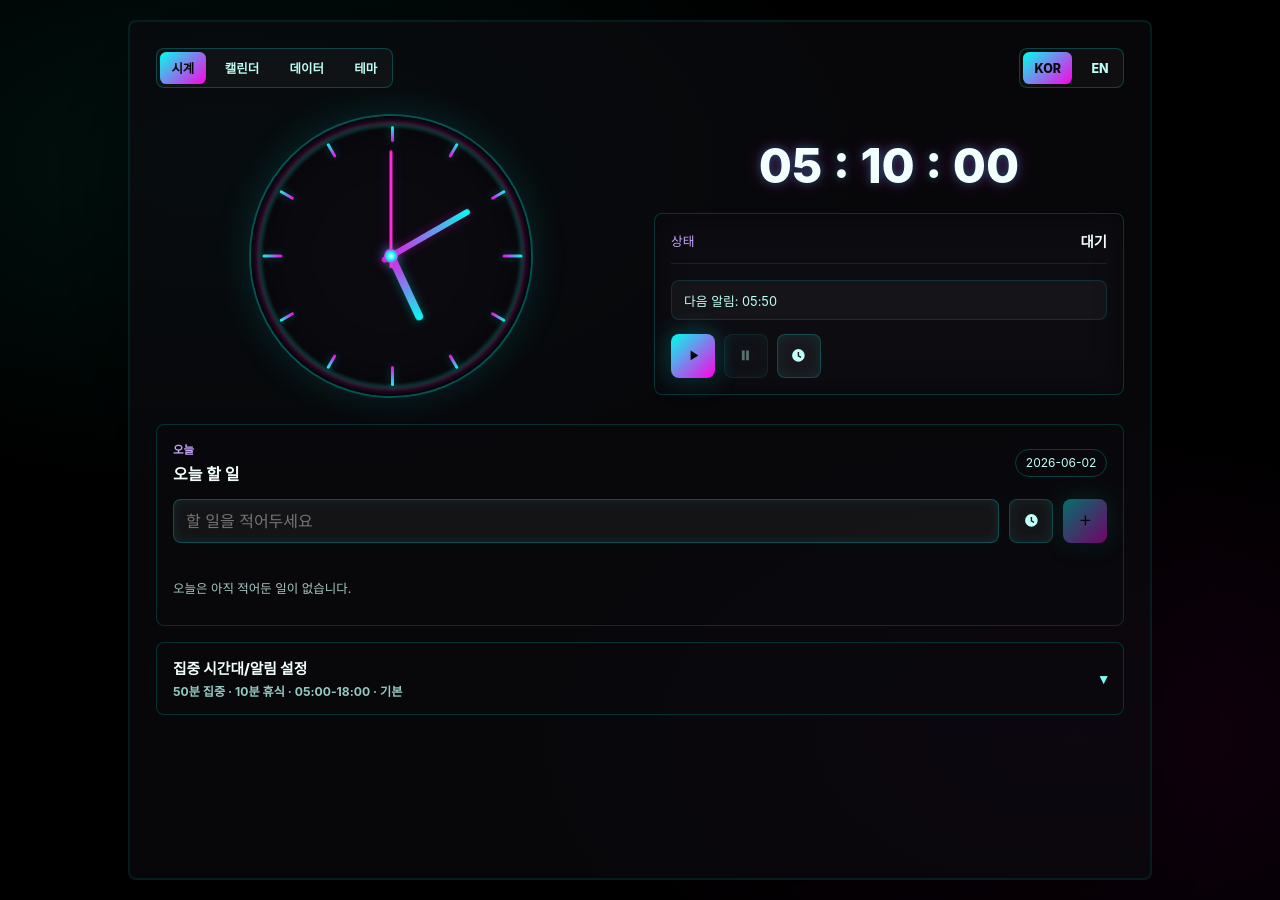
RhythmApp › shows localized success messages for every rhythm command
Click the button named "시작": [693, 356] box [671, 334, 715, 378]
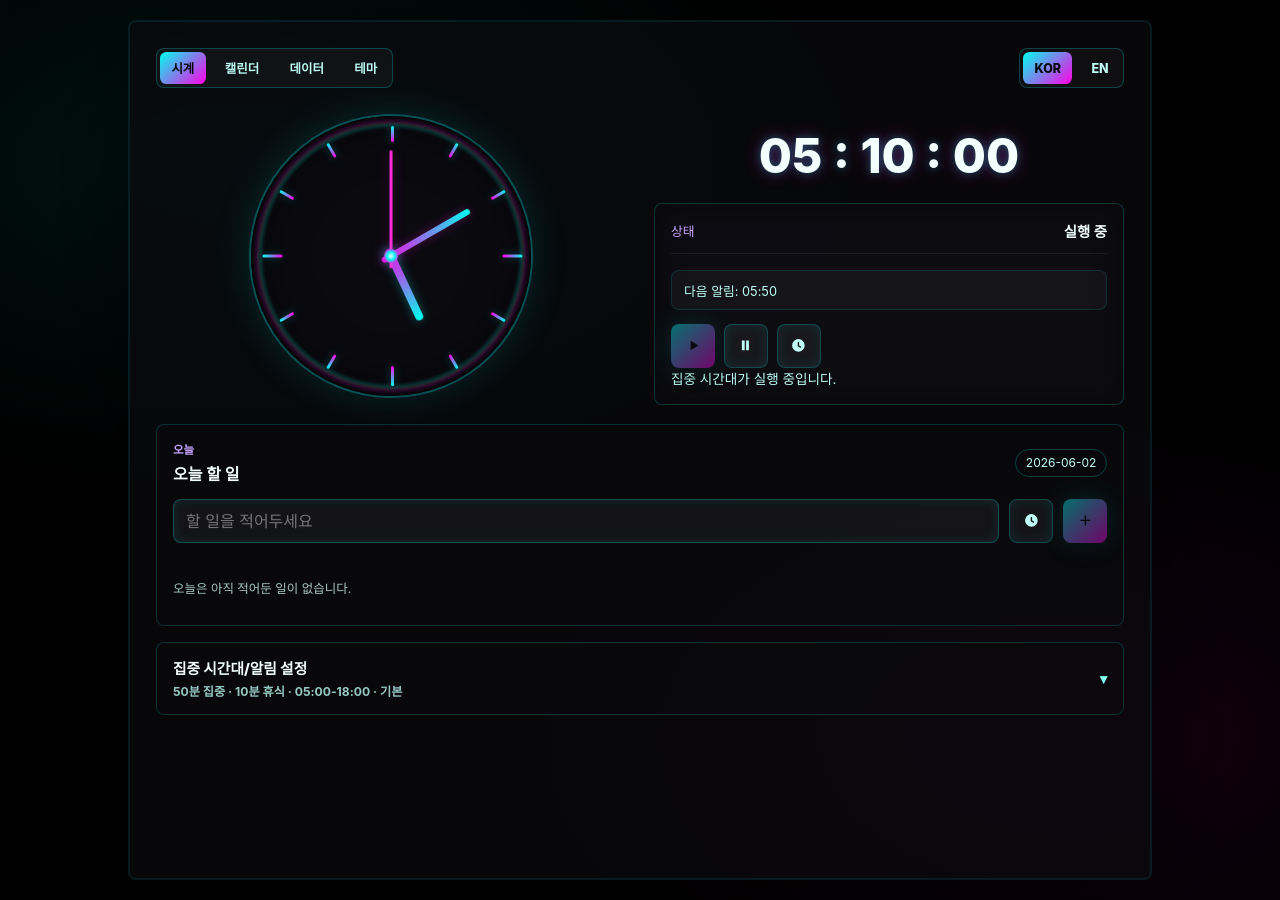
Check: the message reads "집중 시간대가 실행 중입니다.", box [671, 371, 836, 387]
Click the button named "일시정지": [746, 346] box [724, 324, 768, 368]
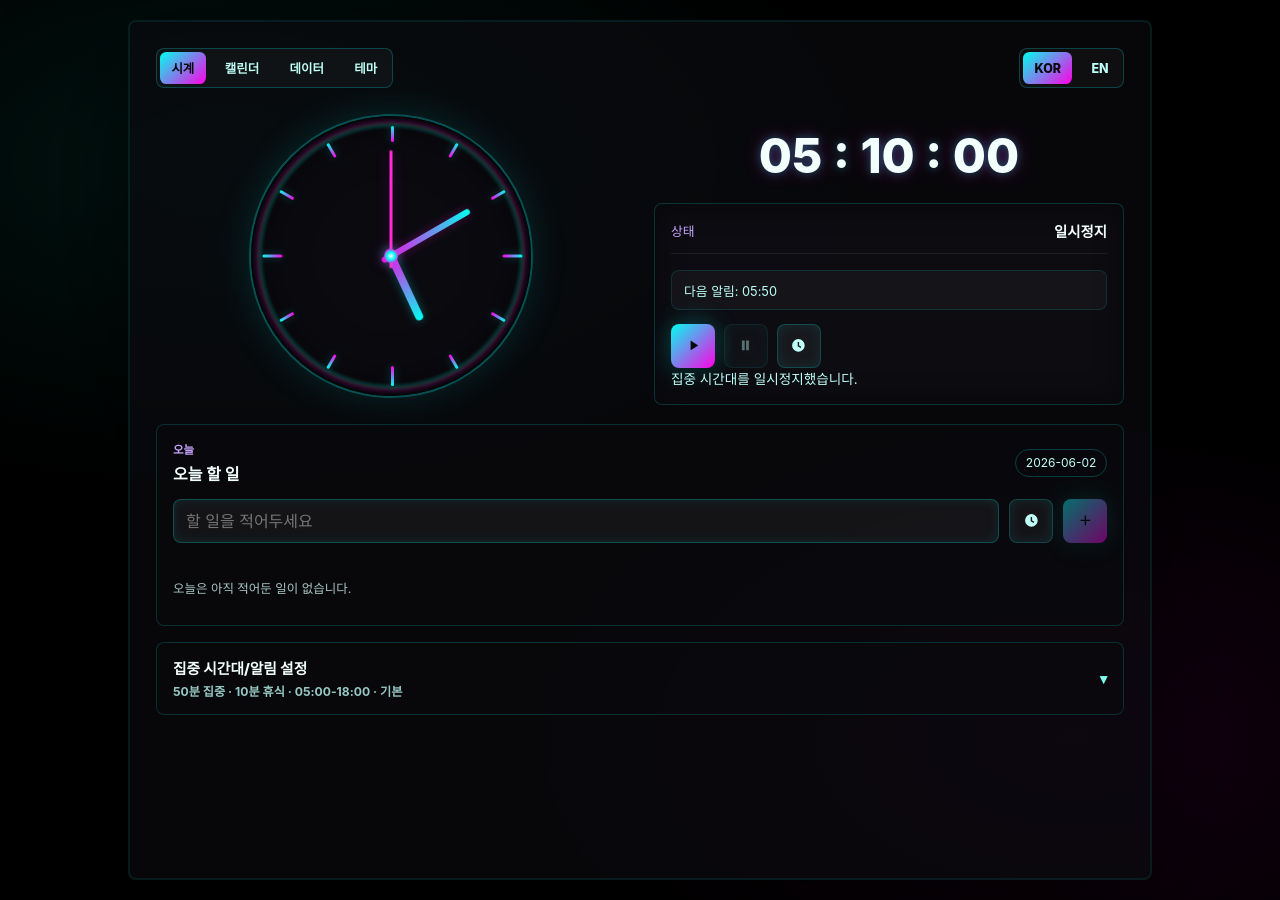
Check: the message reads "집중 시간대를 일시정지했습니다.", box [671, 371, 858, 387]
Click the button named "시작": [693, 346] box [671, 324, 715, 368]
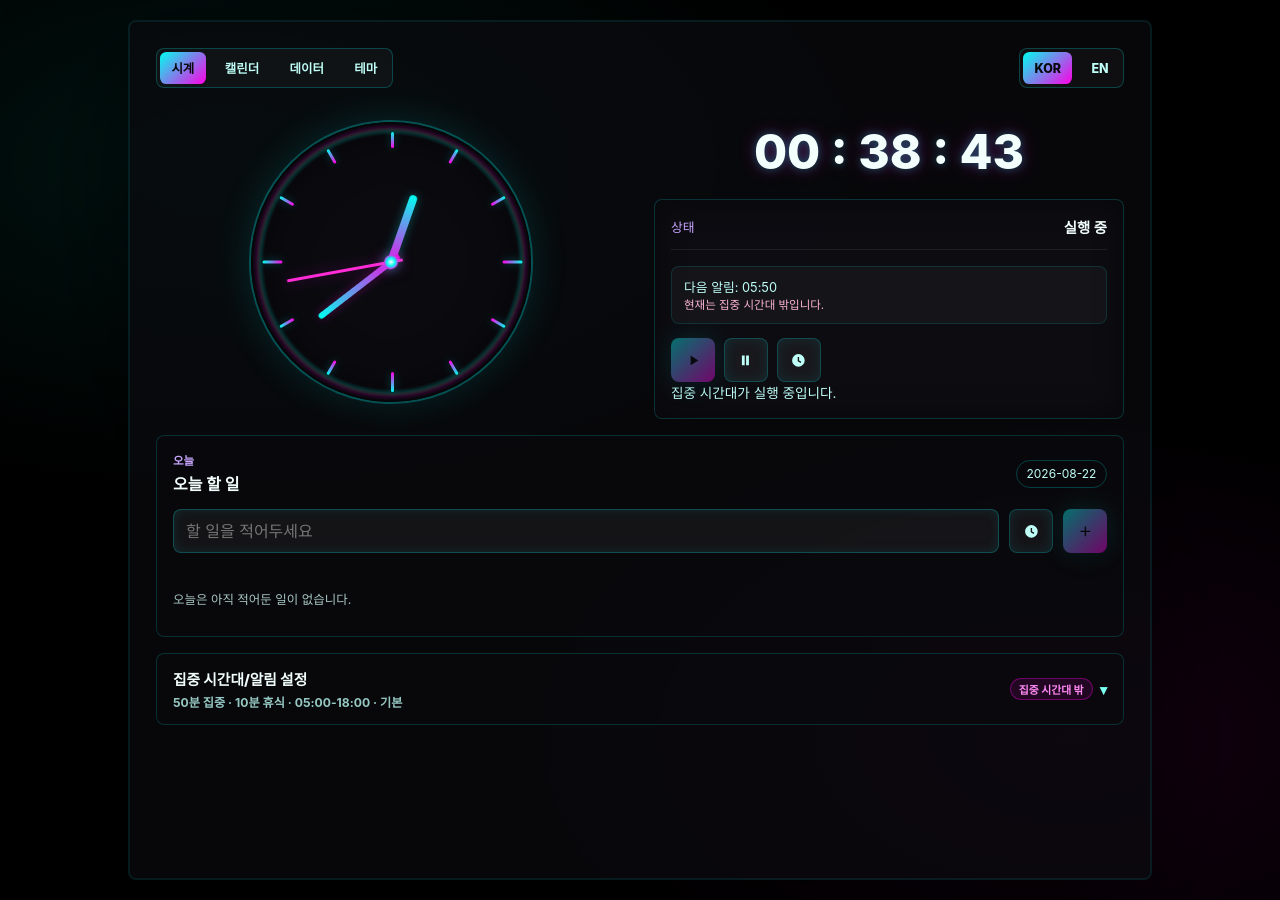
Check: the message reads "집중 시간대가 실행 중입니다.", box [671, 385, 836, 401]
Click the button named "오늘 종료": [799, 360] box [777, 338, 821, 382]
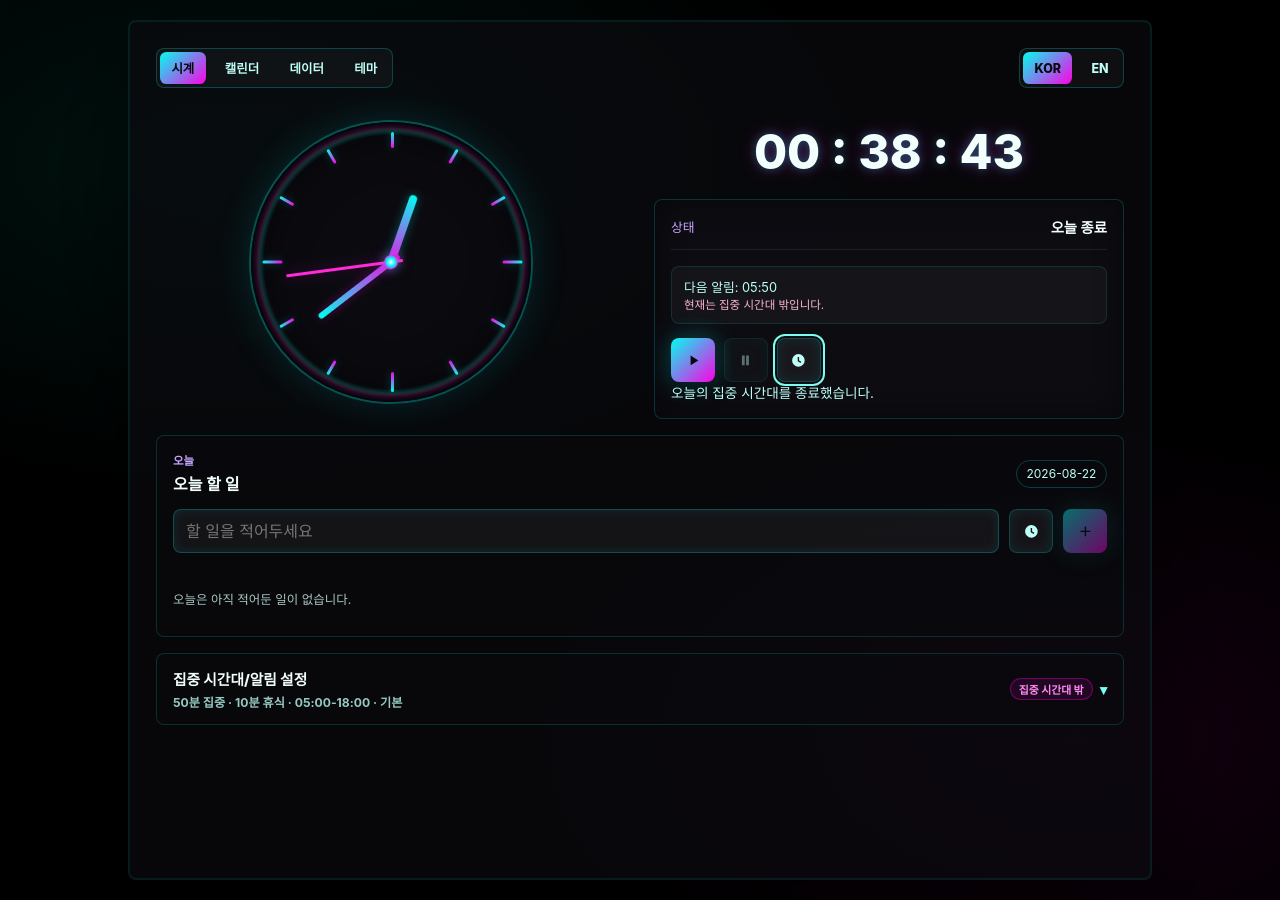
Check: the message reads "오늘의 집중 시간대를 종료했습니다.", box [671, 385, 874, 401]
